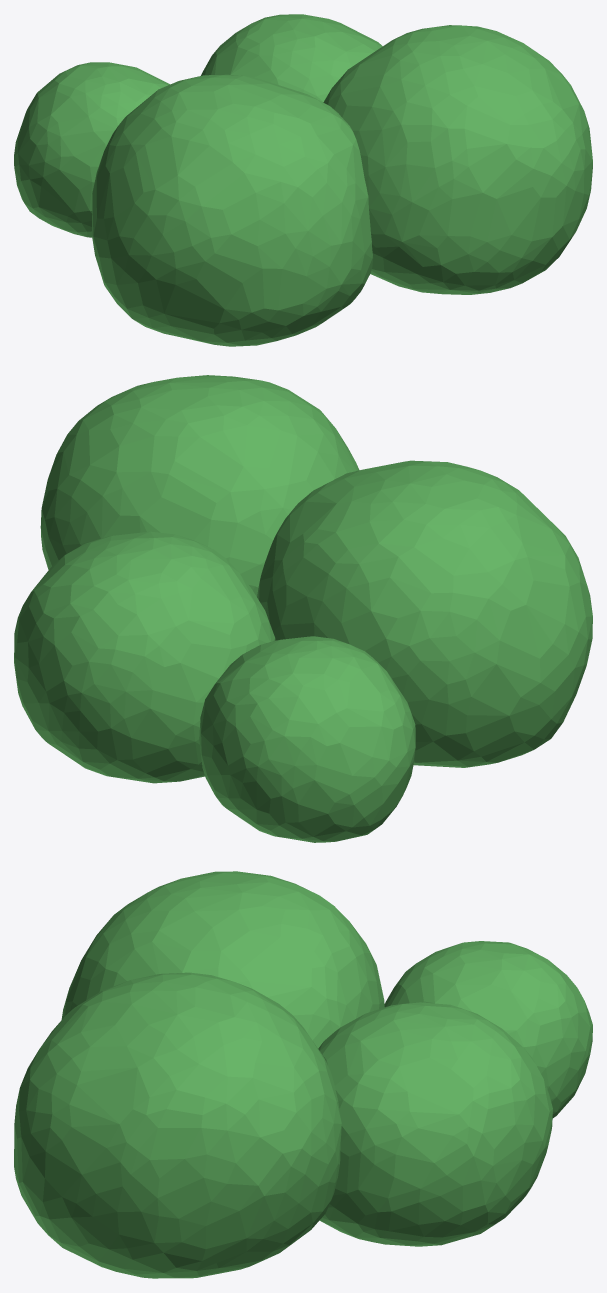
Rendered from arbustoPeqVarios.glb.
3 views of the same model, one above another, from view 1: azimuth 30°, elevation 25°; view 2: azimuth 150°, elevation 25°; view 3: azimuth 270°, elevation 25° (orthographic). The views are drawn at different scales.
Parts seen in each view (by area): view 1: Icosphere; view 2: Icosphere; view 3: Icosphere.
Boxes of the visible parts, x1=… form: Icosphere: x1=14, y1=14, x2=592, y2=346; Icosphere: x1=14, y1=375, x2=592, y2=842; Icosphere: x1=14, y1=871, x2=592, y2=1278.
Bounding box in the file's own units: 2.1 × 1.07 × 2.03.
